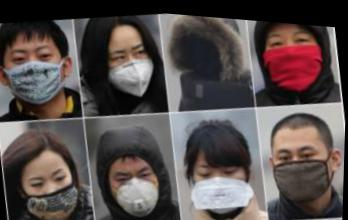OK: (259, 18, 327, 89), (191, 146, 253, 214), (3, 41, 65, 107), (273, 134, 334, 200), (104, 35, 160, 97), (109, 157, 164, 216)
WRONG: (22, 159, 82, 220)
